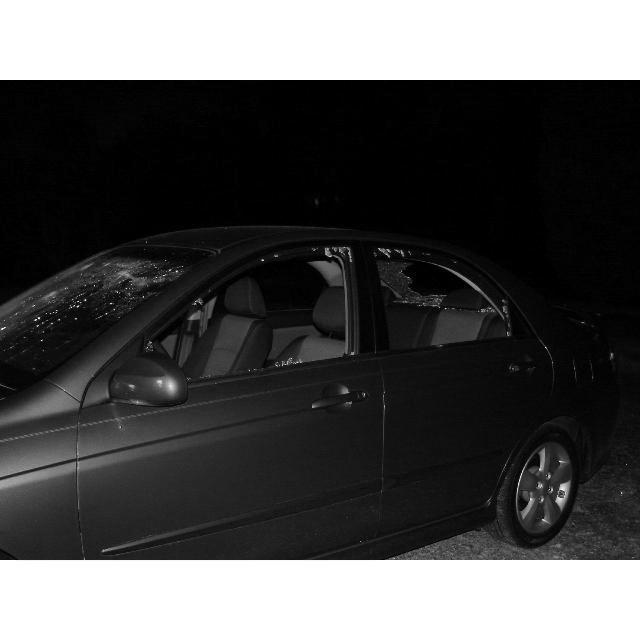Front-windscreen-damage: (0, 247, 174, 365)
doorouter-dent: (143, 246, 379, 532), (345, 237, 513, 443)
